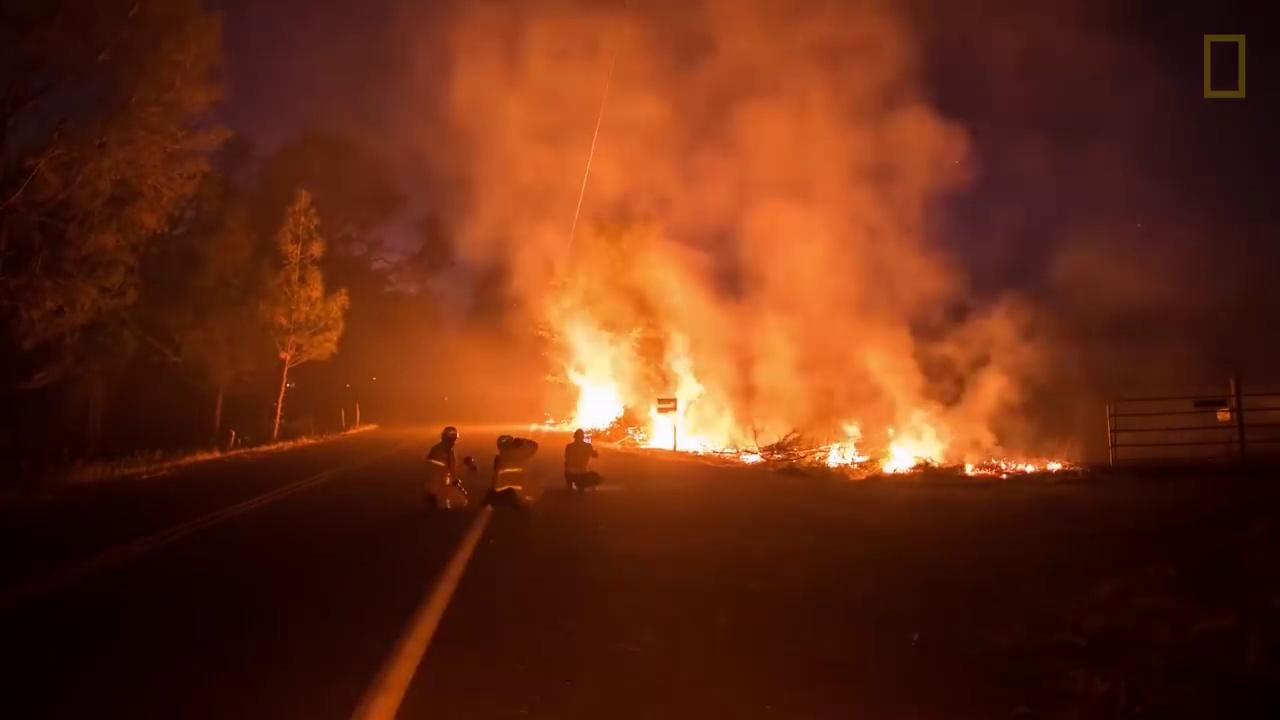Fire: (547, 311, 768, 464), (822, 416, 954, 475), (956, 451, 1065, 480)
